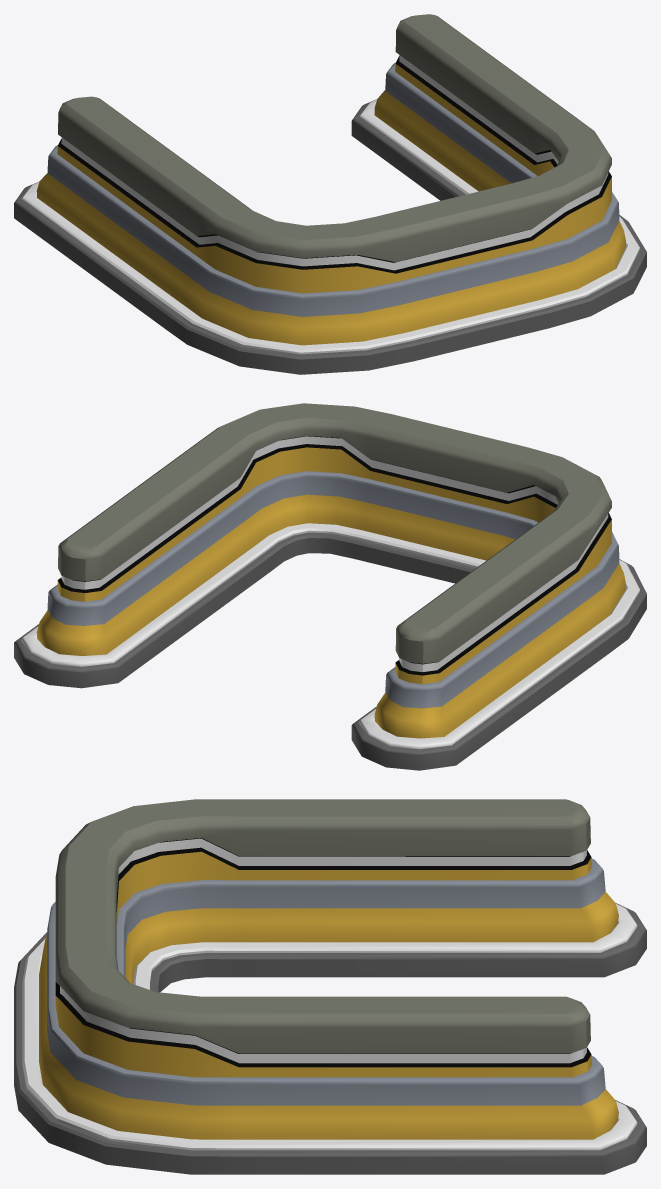
Rendered from Level4_Small_walls.fbx.
3 renders of one model, top to bottom at view 1: azimuth 30°, elevation 25°; view 2: azimuth 150°, elevation 25°; view 3: azimuth 270°, elevation 25°, orthographic. The views are drawn at different scales.
Parts seen in each view (by area): view 1: Small_wall_L1; view 2: Small_wall_L1; view 3: Small_wall_L1.
Part boxes in pixels (x1,y1,x2,y2): Small_wall_L1: (14, 14, 646, 374); Small_wall_L1: (14, 403, 646, 770); Small_wall_L1: (14, 799, 646, 1174).
Bounding box in the file's own units: 146 × 37.08 × 151.
